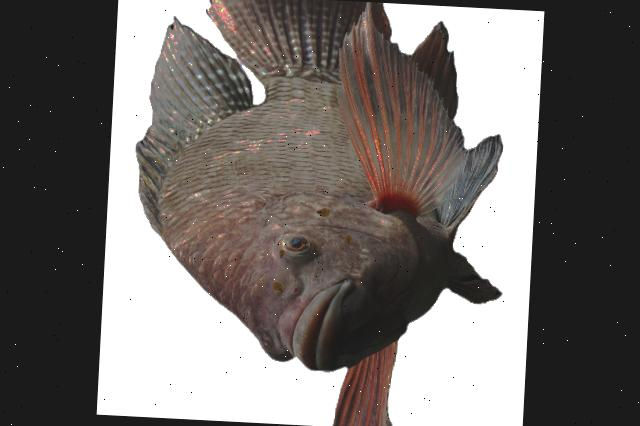Parasitic Disease: (136, 0, 502, 426)
